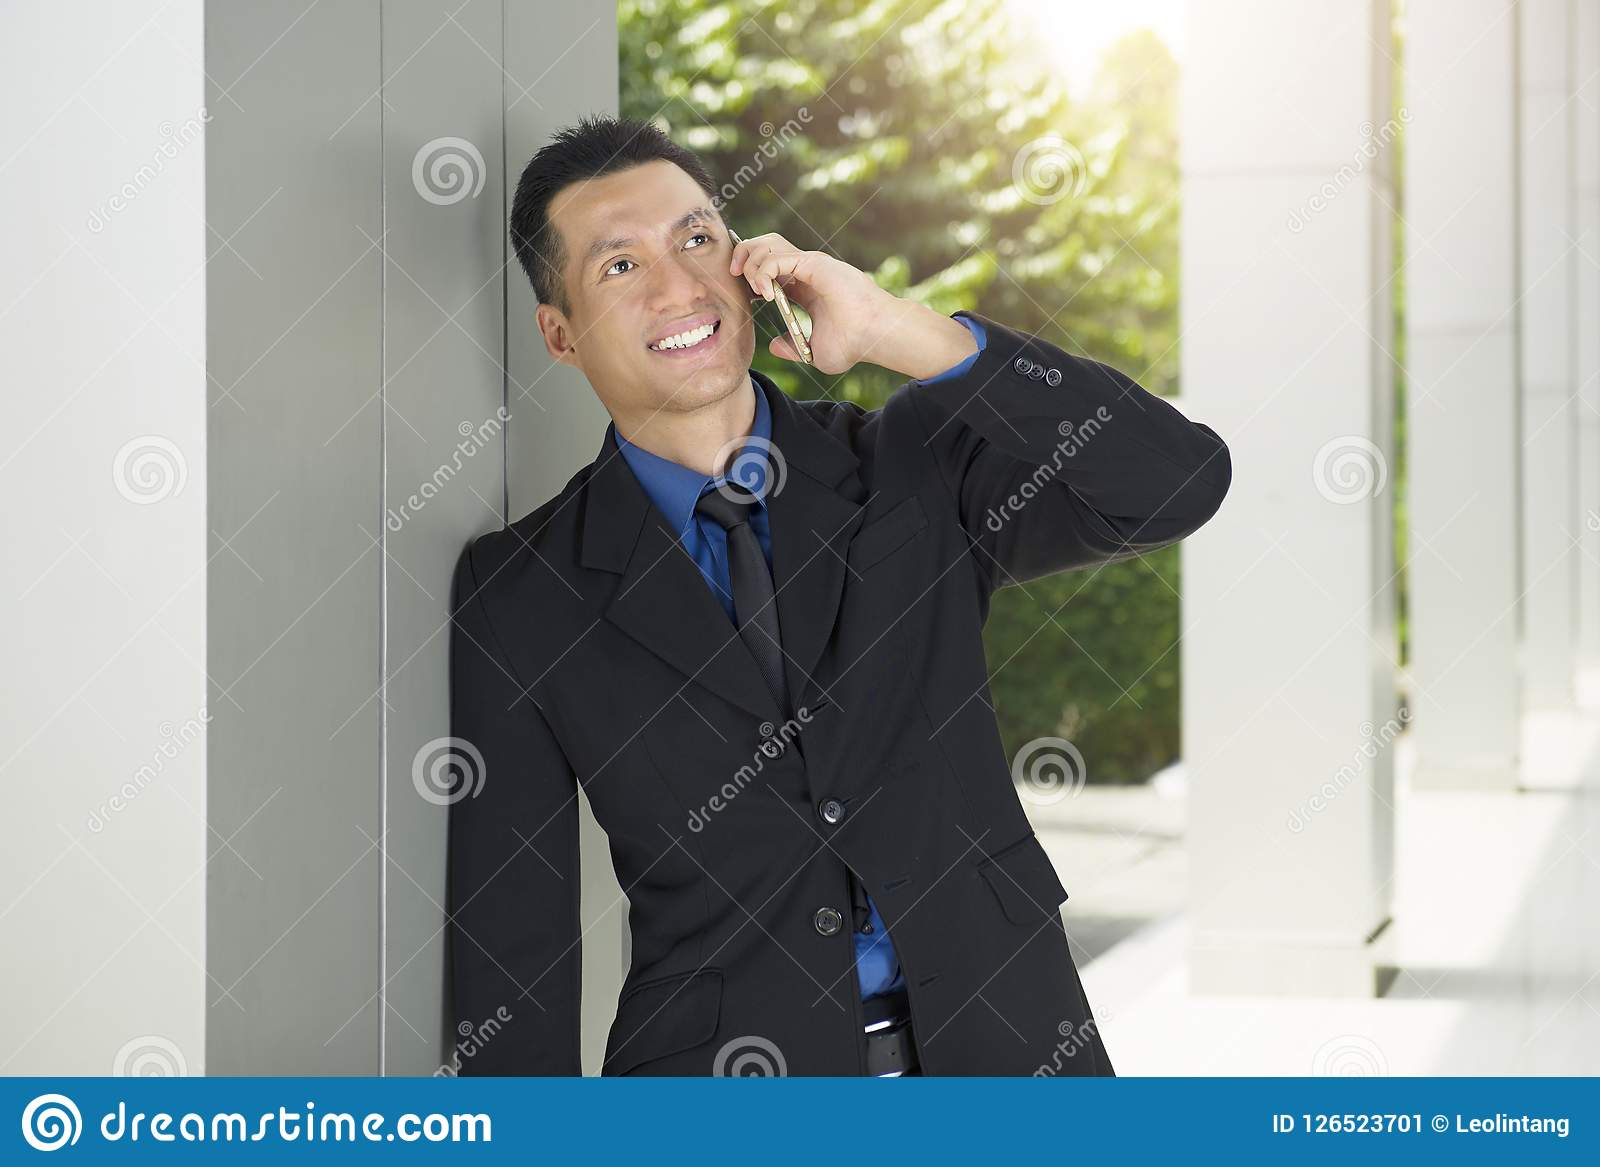phone: (725, 222, 812, 359)
talk: (581, 204, 880, 414)
